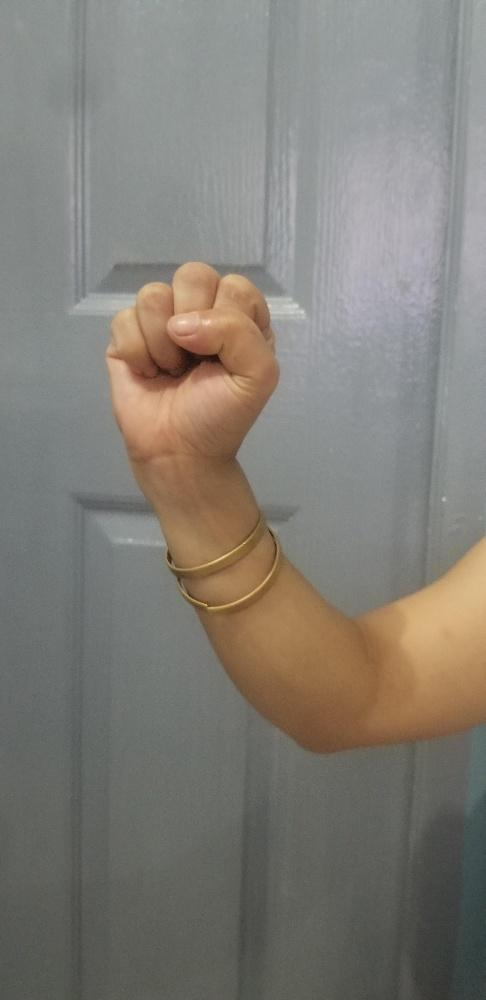s: (103, 260, 284, 466)
